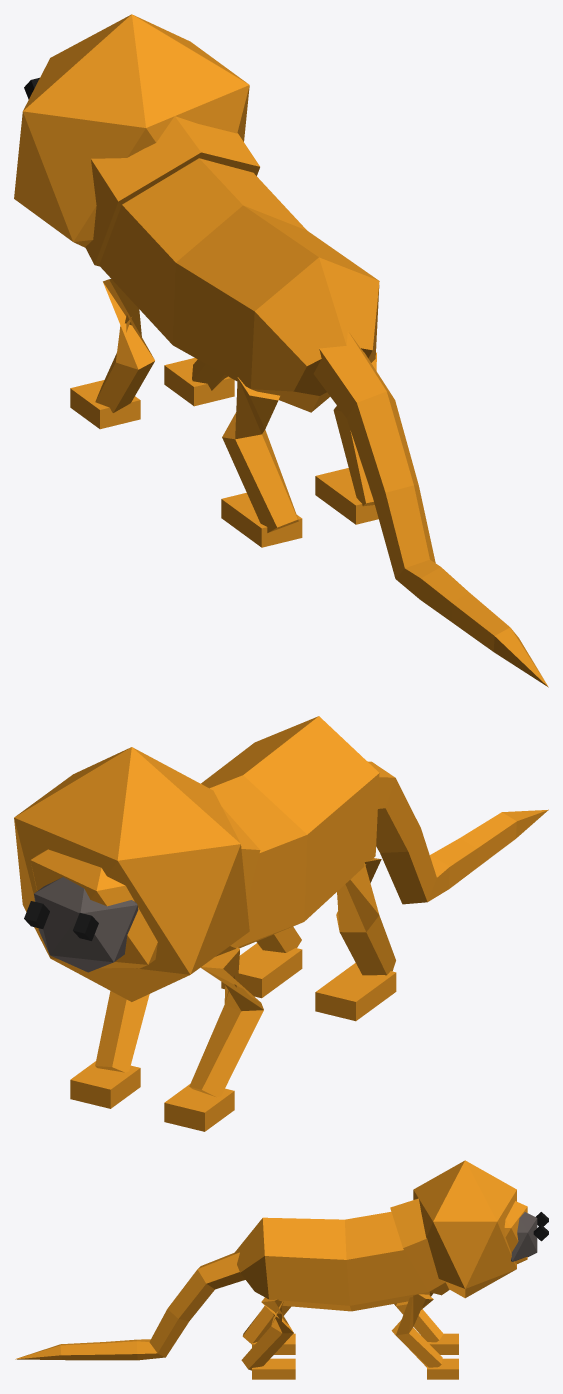
Rendered from mico_leao_dourado.glb.
The picture shows the model from 3 angles, top to bottom: view 1: azimuth 30°, elevation 25°; view 2: azimuth 150°, elevation 25°; view 3: azimuth 270°, elevation 25°; orthographic projection. The views are drawn at different scales.
Parts seen in each view (by area): view 1: corpo; view 2: corpo; view 3: corpo.
Part boxes in pixels (box(x1,y1,x2,y2)): corpo: box(14, 14, 548, 687); corpo: box(14, 716, 548, 1131); corpo: box(15, 1160, 548, 1379).
Size of the model in its own units: 0.2547 by 0.4158 by 1.
